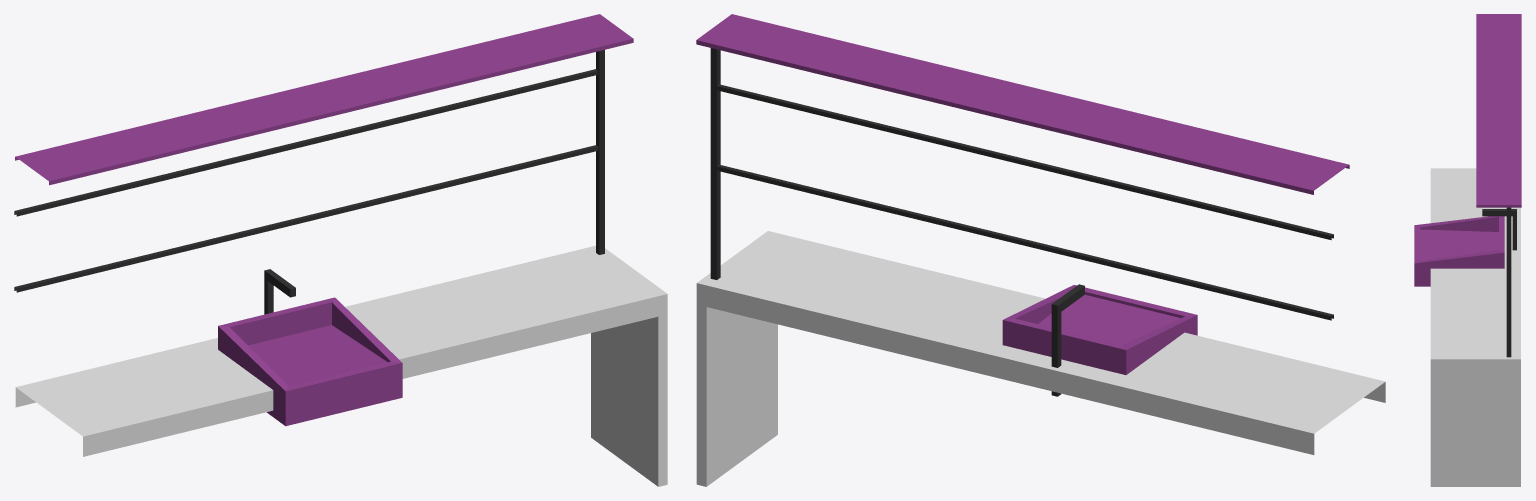
File: meuble lavabo.FBX
3 renders of one model, left to right at view 1: azimuth 30°, elevation 25°; view 2: azimuth 150°, elevation 25°; view 3: azimuth 270°, elevation 25°, orthographic. The views are drawn at different scales.
Parts seen in each view (by area): view 1: meuble lavabo, etendoire meuble lavabo, pose panier a linge002; view 2: meuble lavabo, etendoire meuble lavabo, pose panier a linge002; view 3: meuble lavabo, etendoire meuble lavabo, pose panier a linge002.
Part boxes in pixels (x1,y1,x2,y2): meuble lavabo: (15, 245, 667, 486); etendoire meuble lavabo: (14, 14, 633, 292); pose panier a linge002: (218, 269, 402, 426); meuble lavabo: (696, 231, 1385, 486); etendoire meuble lavabo: (696, 14, 1349, 320); pose panier a linge002: (1002, 284, 1197, 396); meuble lavabo: (1430, 168, 1520, 486); etendoire meuble lavabo: (1476, 14, 1521, 357); pose panier a linge002: (1414, 209, 1516, 286).
Bounding box in the file's own units: 305 × 206 × 71.2.
